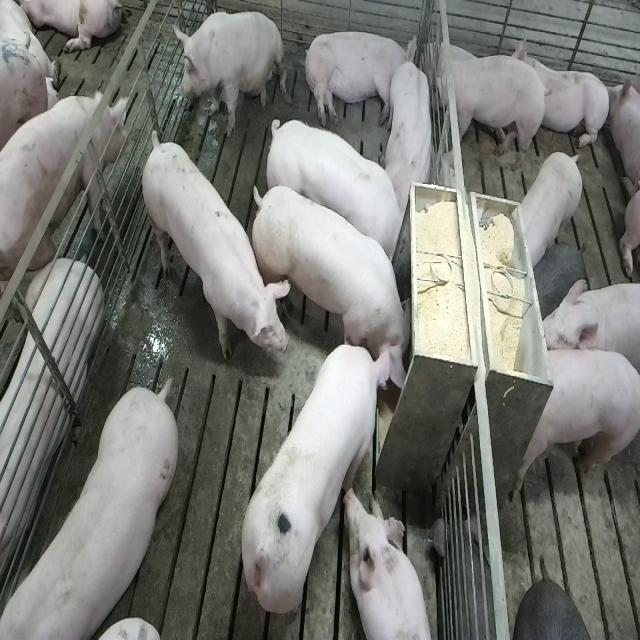Feeding: (239, 337, 395, 618), (254, 179, 420, 385)
Lateral_lying: (0, 260, 101, 606), (301, 28, 417, 128)
Sitting: (174, 8, 285, 137)
Standing: (0, 381, 175, 640), (137, 130, 285, 382), (0, 86, 126, 296), (265, 111, 406, 263), (512, 348, 640, 500), (425, 32, 552, 174), (538, 277, 640, 404), (516, 150, 586, 267), (532, 241, 590, 322)
Sternal_lying: (346, 486, 435, 640), (516, 34, 611, 153), (382, 51, 436, 211)
